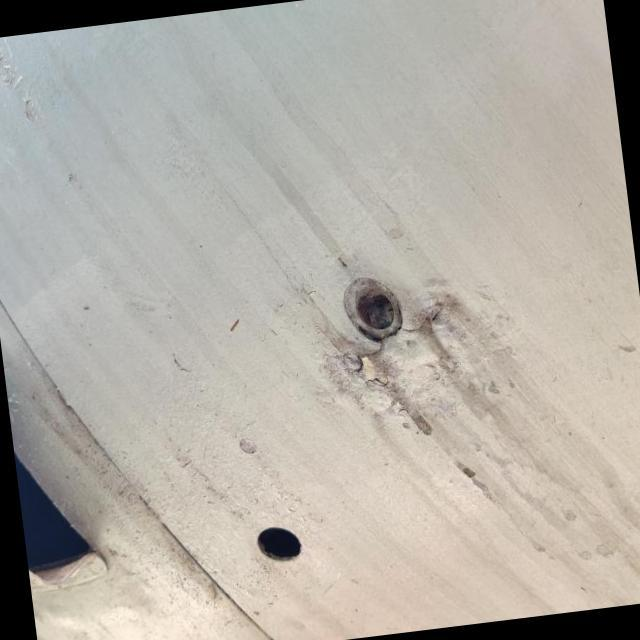Rupture: (331, 335, 398, 402)
